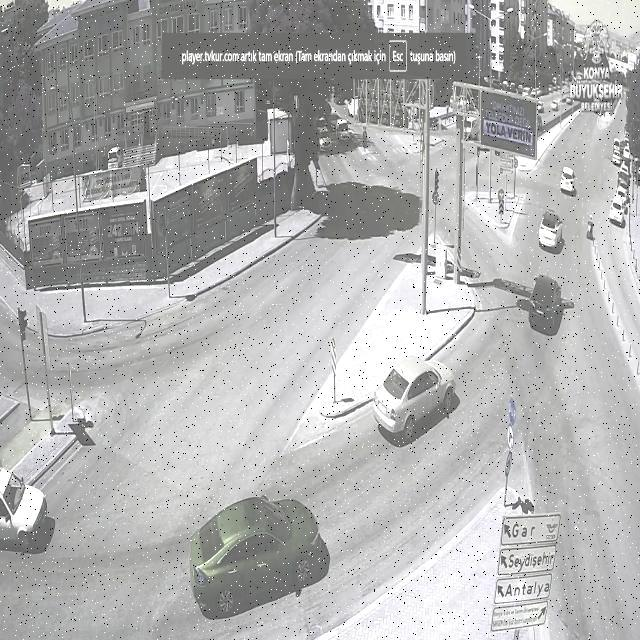Car: (190, 494, 320, 615), (374, 358, 456, 441), (0, 466, 47, 549), (528, 275, 562, 334), (538, 209, 564, 250), (609, 196, 626, 228), (559, 166, 578, 193), (316, 126, 334, 153), (611, 151, 623, 166), (550, 100, 559, 112)
Cycle: (585, 221, 595, 240)
